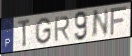9: (73, 11, 89, 42)
F: (109, 5, 129, 38)
G: (34, 17, 53, 45)
N: (90, 7, 110, 40)
R: (53, 15, 71, 43)
T: (17, 17, 32, 48)
